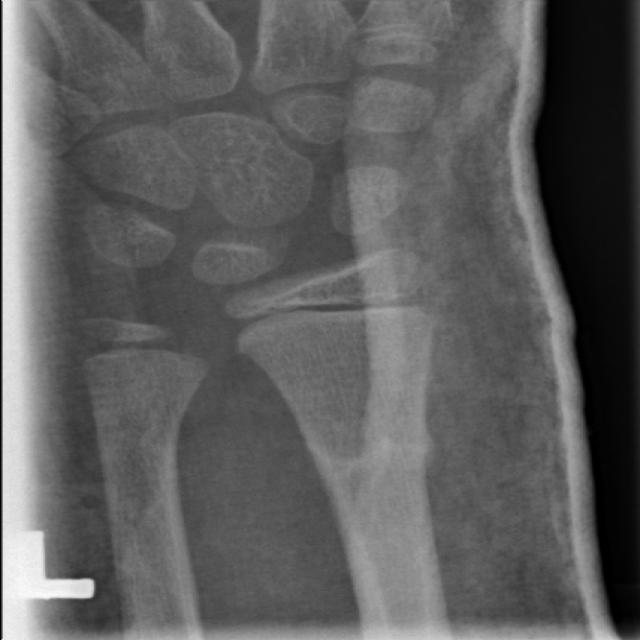radius fracture: (291, 408, 490, 550)
